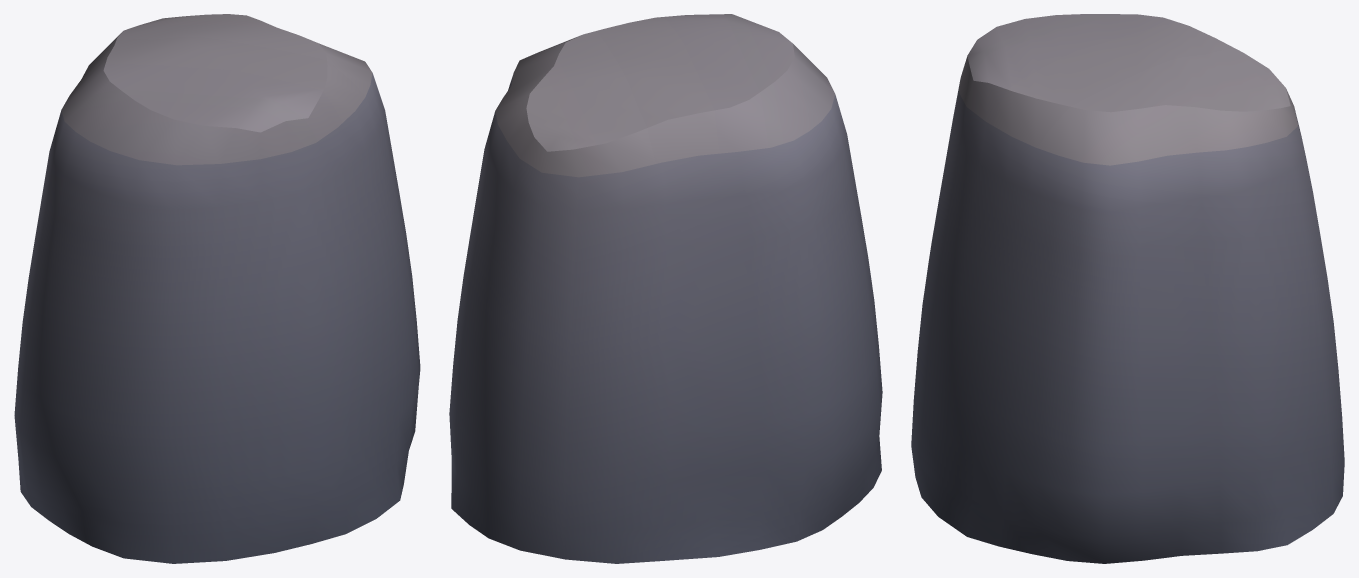
Rendered from Rock.gltf.
The picture shows the model from 3 angles, left to right: view 1: azimuth 30°, elevation 25°; view 2: azimuth 150°, elevation 25°; view 3: azimuth 270°, elevation 25°; orthographic projection. The views are drawn at different scales.
Visible parts, largest first — view 1: Rock; view 2: Rock; view 3: Rock.
Part boxes in pixels (x1,y1,x2,y2): Rock: (14,14,420,563); Rock: (449,14,882,563); Rock: (911,14,1344,563).
Bounding box in the file's own units: 0.923 × 0.9857 × 0.9017.
1 material, 1 textured.
